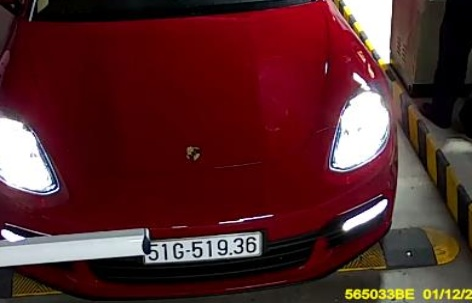plate: (142, 231, 267, 265)
